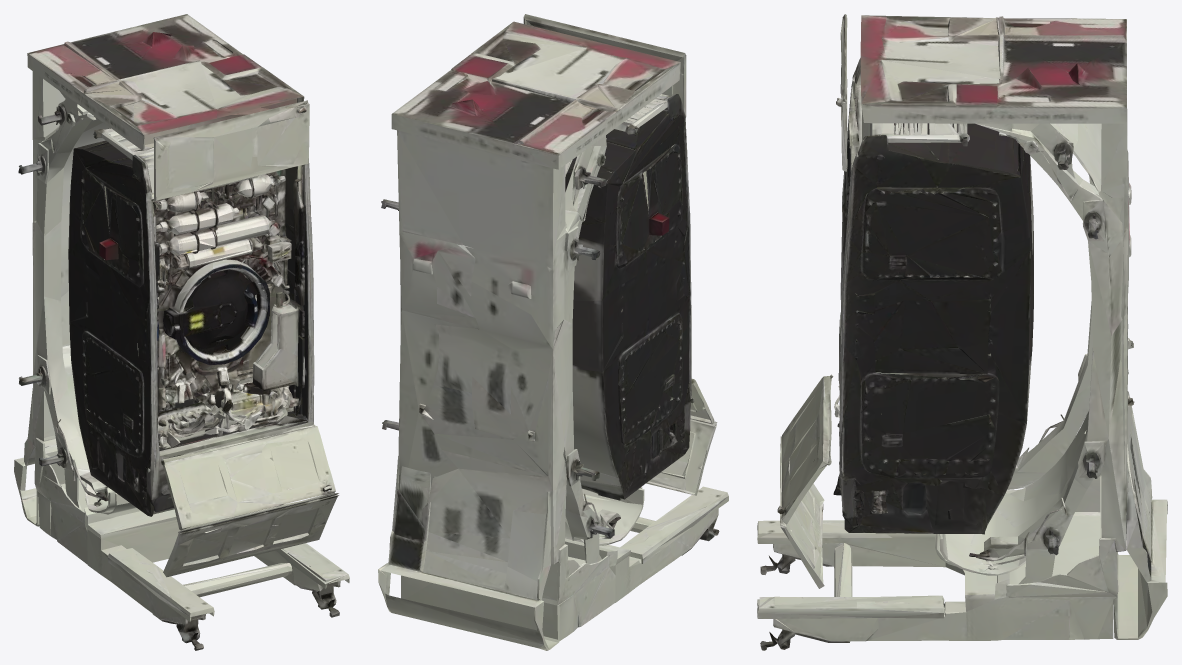
File: cir.glb
The picture shows the model from 3 angles, left to right: view 1: azimuth 30°, elevation 25°; view 2: azimuth 150°, elevation 25°; view 3: azimuth 270°, elevation 25°; orthographic projection. The views are drawn at different scales.
Parts seen in each view (by area): view 1: cir; view 2: cir; view 3: cir.
Part boxes in pixels (x1,y1,x2,y2): cir: [14, 14, 349, 650]; cir: [378, 14, 728, 650]; cir: [757, 14, 1167, 650].
Bounding box in the file's own units: 0.9567 × 2.2 × 1.46.
1 material, 1 textured.
